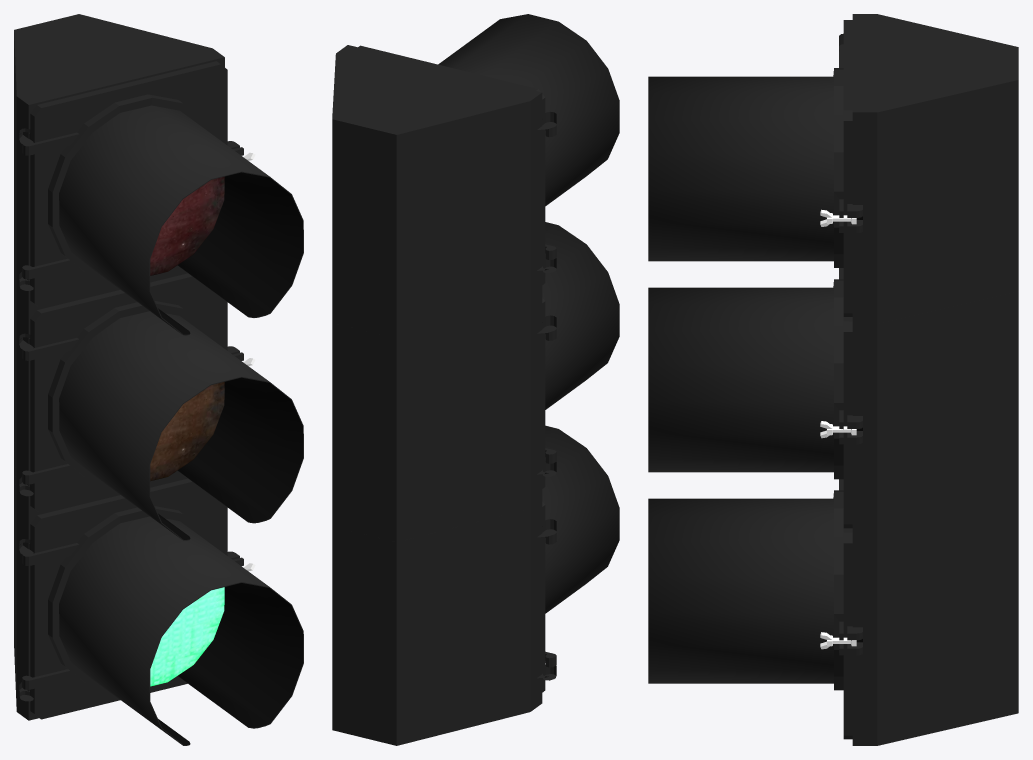
The model's file is OBJ-signal_head.glb.
3 views of the same model, side by side, from view 1: azimuth 30°, elevation 25°; view 2: azimuth 150°, elevation 25°; view 3: azimuth 270°, elevation 25° (orthographic). The views are drawn at different scales.
Visible parts, largest first — view 1: Cylinder.315; view 2: Cylinder.315; view 3: Cylinder.315.
Boxes of the visible parts, <box> form: Cylinder.315: <box>14,14,303,745</box>; Cylinder.315: <box>332,14,619,745</box>; Cylinder.315: <box>648,14,1018,745</box>.
Size of the model in its own units: 0.3205 by 0.85 by 0.4506.
Materials: 7 (3 with a texture image).
